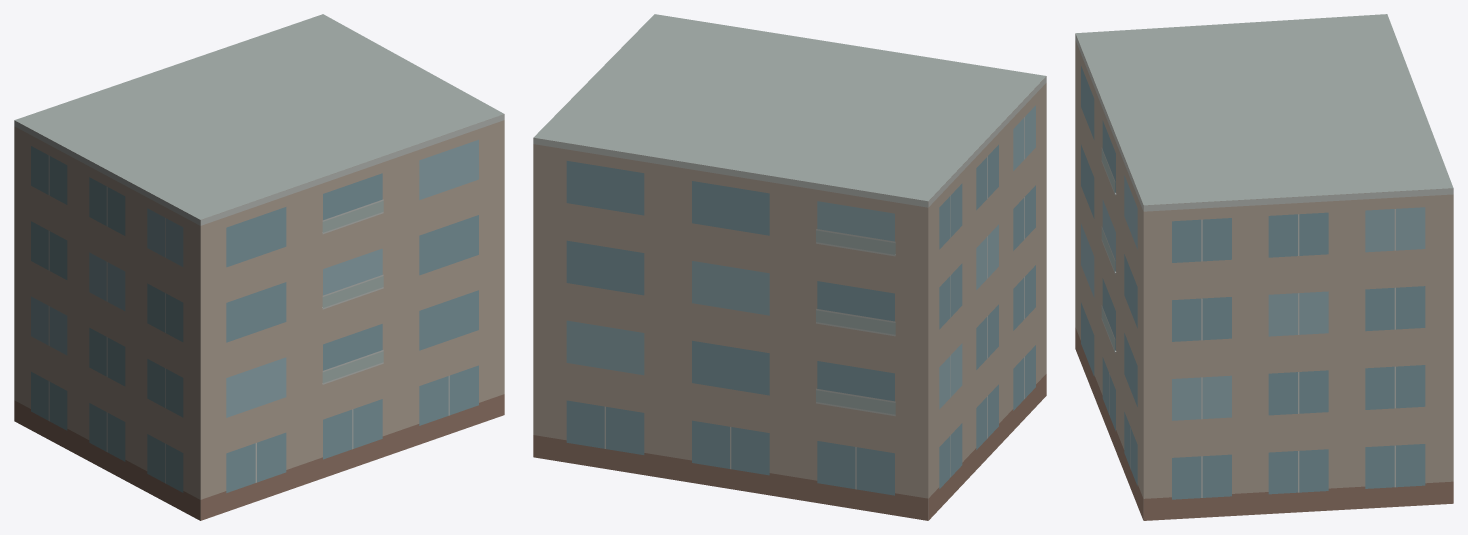
Rendered from survey-upis-32807741.glb.
3 views of the same model, side by side, from view 1: azimuth 30°, elevation 25°; view 2: azimuth 150°, elevation 25°; view 3: azimuth 270°, elevation 25° (orthographic). The views are drawn at different scales.
Parts seen in each view (by area): view 1: survey-upis-32807741.tmp; view 2: survey-upis-32807741.tmp; view 3: survey-upis-32807741.tmp.
Part boxes in pixels (<box>): survey-upis-32807741.tmp: <box>14,14,504,520</box>; survey-upis-32807741.tmp: <box>533,14,1046,520</box>; survey-upis-32807741.tmp: <box>1075,14,1453,520</box>.
Bounding box in the file's own units: 15.88 × 12.2 × 13.26.
